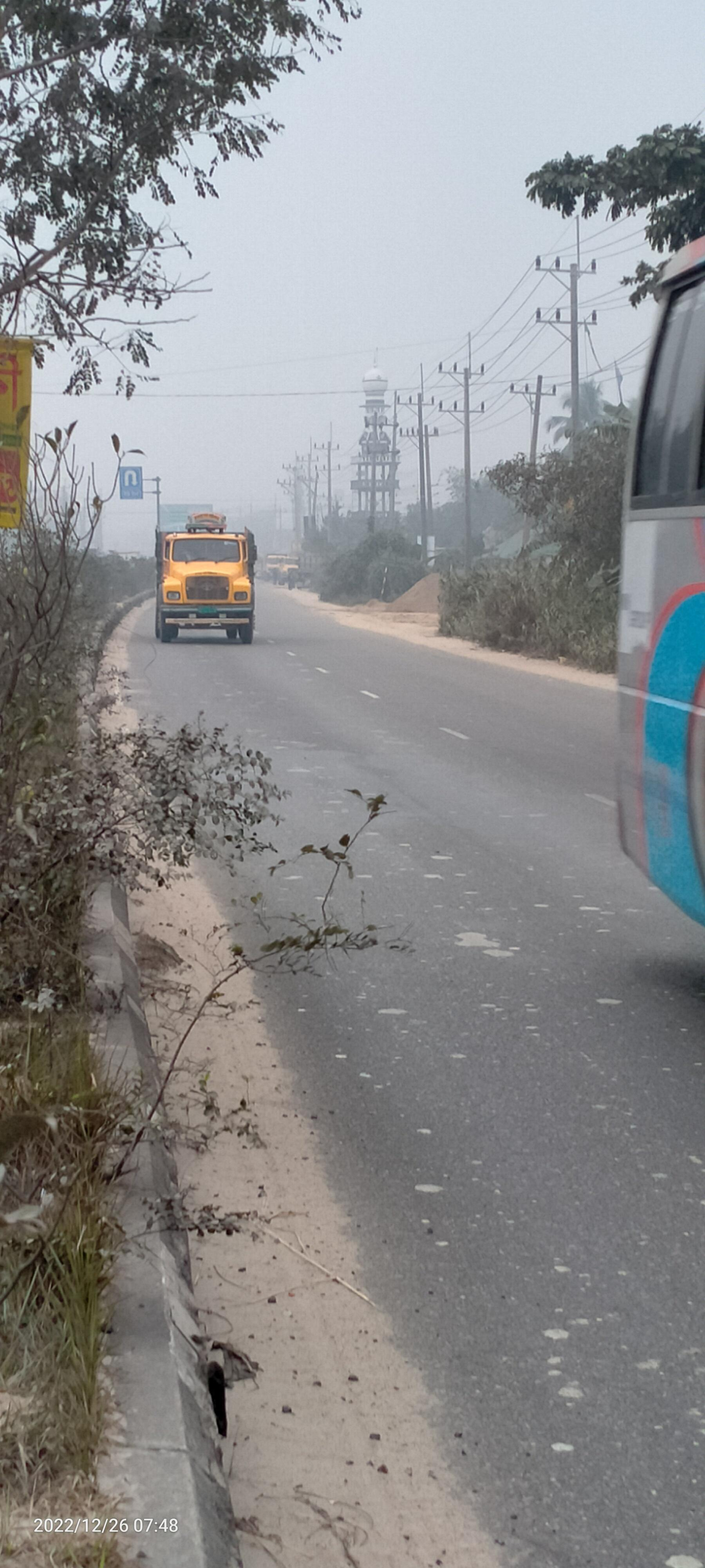Truck: (147, 508, 269, 655)
